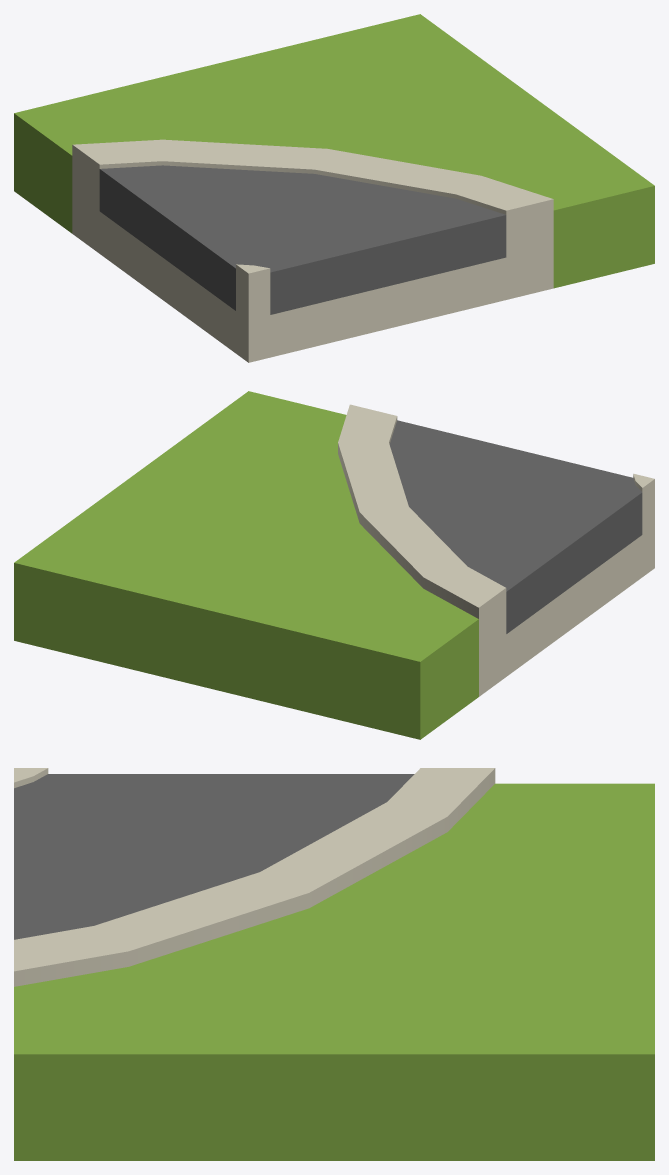
File: road-one-way-curve-sidewalk-grass-6.obj
3 views of the same model, one above another, from view 1: azimuth 30°, elevation 25°; view 2: azimuth 150°, elevation 25°; view 3: azimuth 270°, elevation 25° (orthographic). The views are drawn at different scales.
Visible parts, largest first — view 1: Mesh1_Group1_Model.048; view 2: Mesh1_Group1_Model.048; view 3: Mesh1_Group1_Model.048.
Part boxes in pixels (x1,y1,x2,y2): Mesh1_Group1_Model.048: (14,14,654,362); Mesh1_Group1_Model.048: (14,391,654,739); Mesh1_Group1_Model.048: (14,768,654,1160).
Bounding box in the file's own units: 3 × 0.63 × 3.
